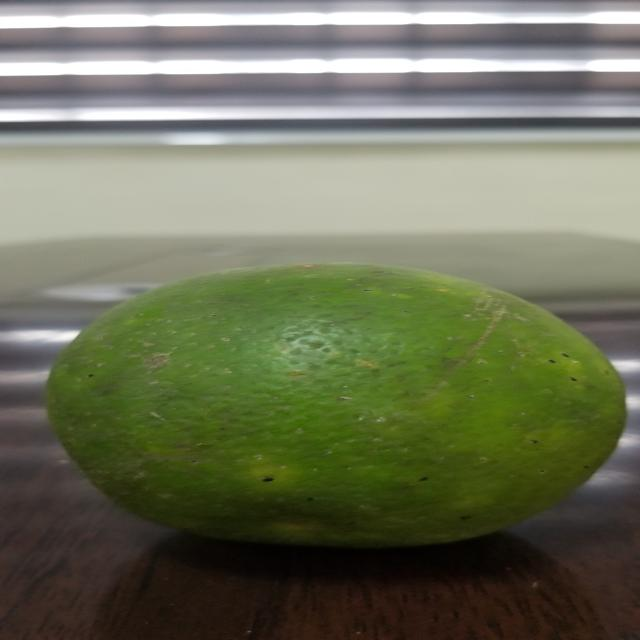Ripe orange: (26, 241, 640, 556)
